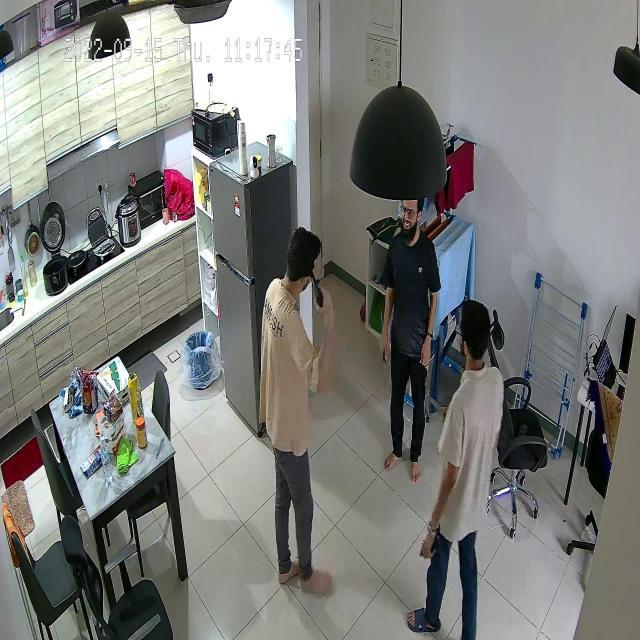Gun: (309, 268, 338, 314)
